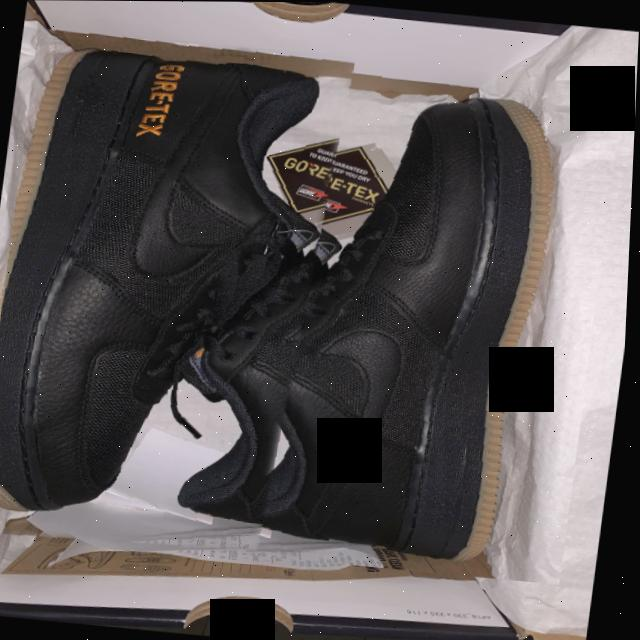shoe: (220, 54, 626, 584), (0, 27, 357, 563)
